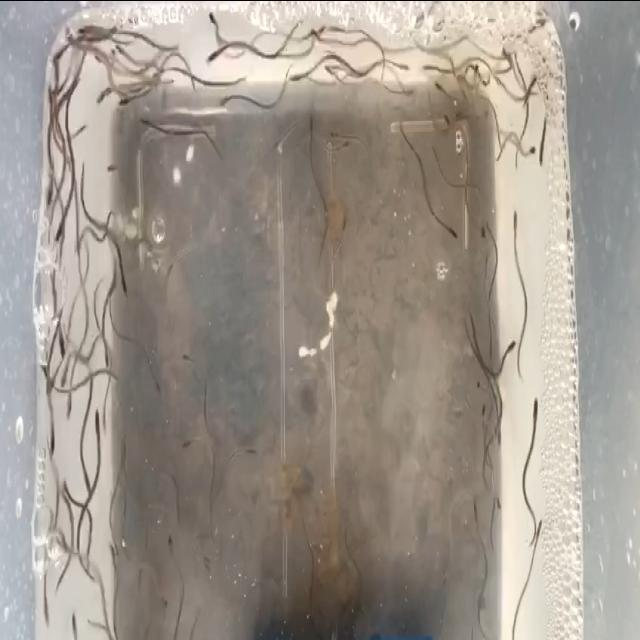inactive_glass_eel: (464, 485, 484, 528), (135, 101, 155, 137), (96, 332, 116, 368), (477, 210, 492, 256), (41, 578, 53, 634), (76, 20, 98, 50), (215, 86, 237, 116), (523, 65, 537, 111), (392, 50, 412, 80), (116, 268, 134, 300), (56, 356, 70, 396), (498, 32, 512, 72), (43, 74, 57, 112), (61, 29, 80, 56), (318, 52, 334, 84), (444, 213, 461, 243), (535, 511, 546, 557), (41, 362, 55, 398), (430, 74, 446, 105), (305, 19, 323, 46), (43, 183, 56, 220), (52, 209, 64, 249), (328, 124, 344, 154), (504, 328, 518, 362), (202, 2, 220, 28), (104, 530, 119, 560), (50, 322, 66, 350), (116, 438, 132, 466), (56, 476, 66, 520), (115, 84, 129, 115), (46, 422, 58, 458), (91, 401, 103, 437), (72, 224, 88, 251), (92, 85, 110, 109), (510, 203, 526, 230), (480, 400, 492, 436), (50, 43, 64, 73), (529, 391, 543, 421), (490, 492, 504, 522), (164, 519, 176, 554), (64, 386, 76, 417), (104, 160, 122, 180), (202, 47, 222, 65), (68, 606, 78, 640), (62, 462, 70, 504), (524, 136, 536, 164), (284, 70, 304, 86), (306, 108, 316, 136), (421, 58, 435, 78)
